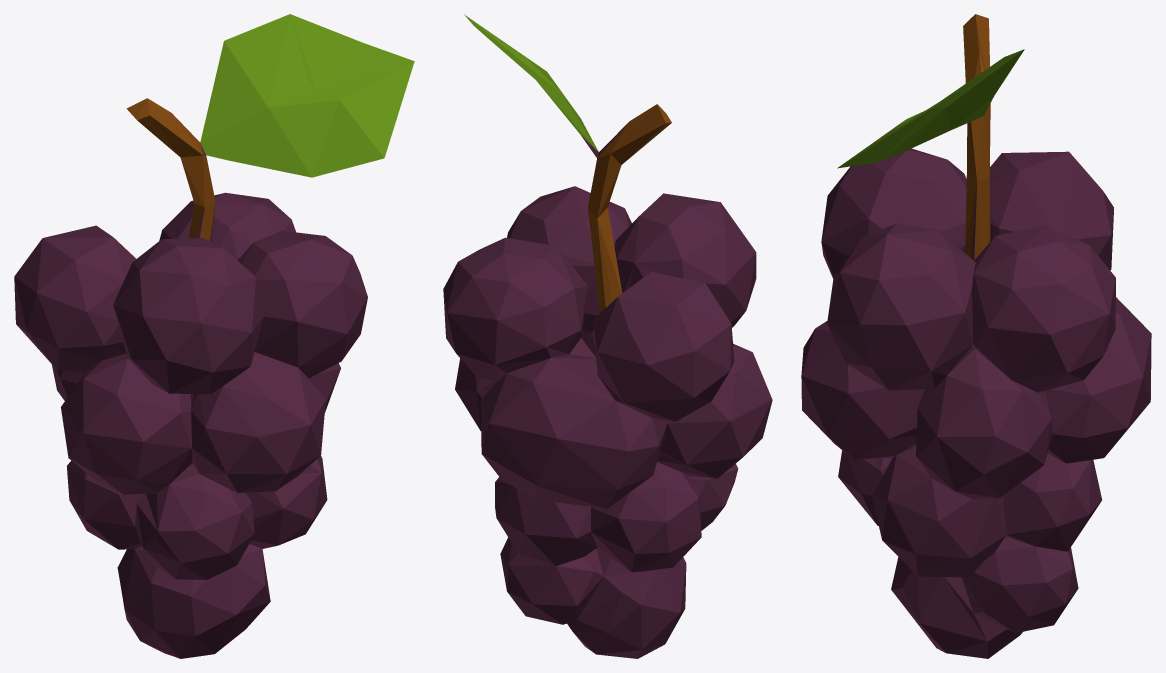
File: Uvas.fbx
3 views of the same model, side by side, from view 1: azimuth 30°, elevation 25°; view 2: azimuth 150°, elevation 25°; view 3: azimuth 270°, elevation 25° (orthographic). The views are drawn at different scales.
Parts seen in each view (by area): view 1: Uvas; view 2: Uvas; view 3: Uvas.
Part boxes in pixels (x1,y1,x2,y2): Uvas: (14,14,414,658); Uvas: (443,14,772,658); Uvas: (801,14,1151,658).
Size of the model in its own units: 2426 by 4224 by 2050.
